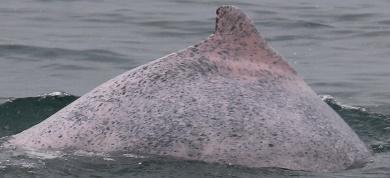fin: (11, 2, 379, 173)
